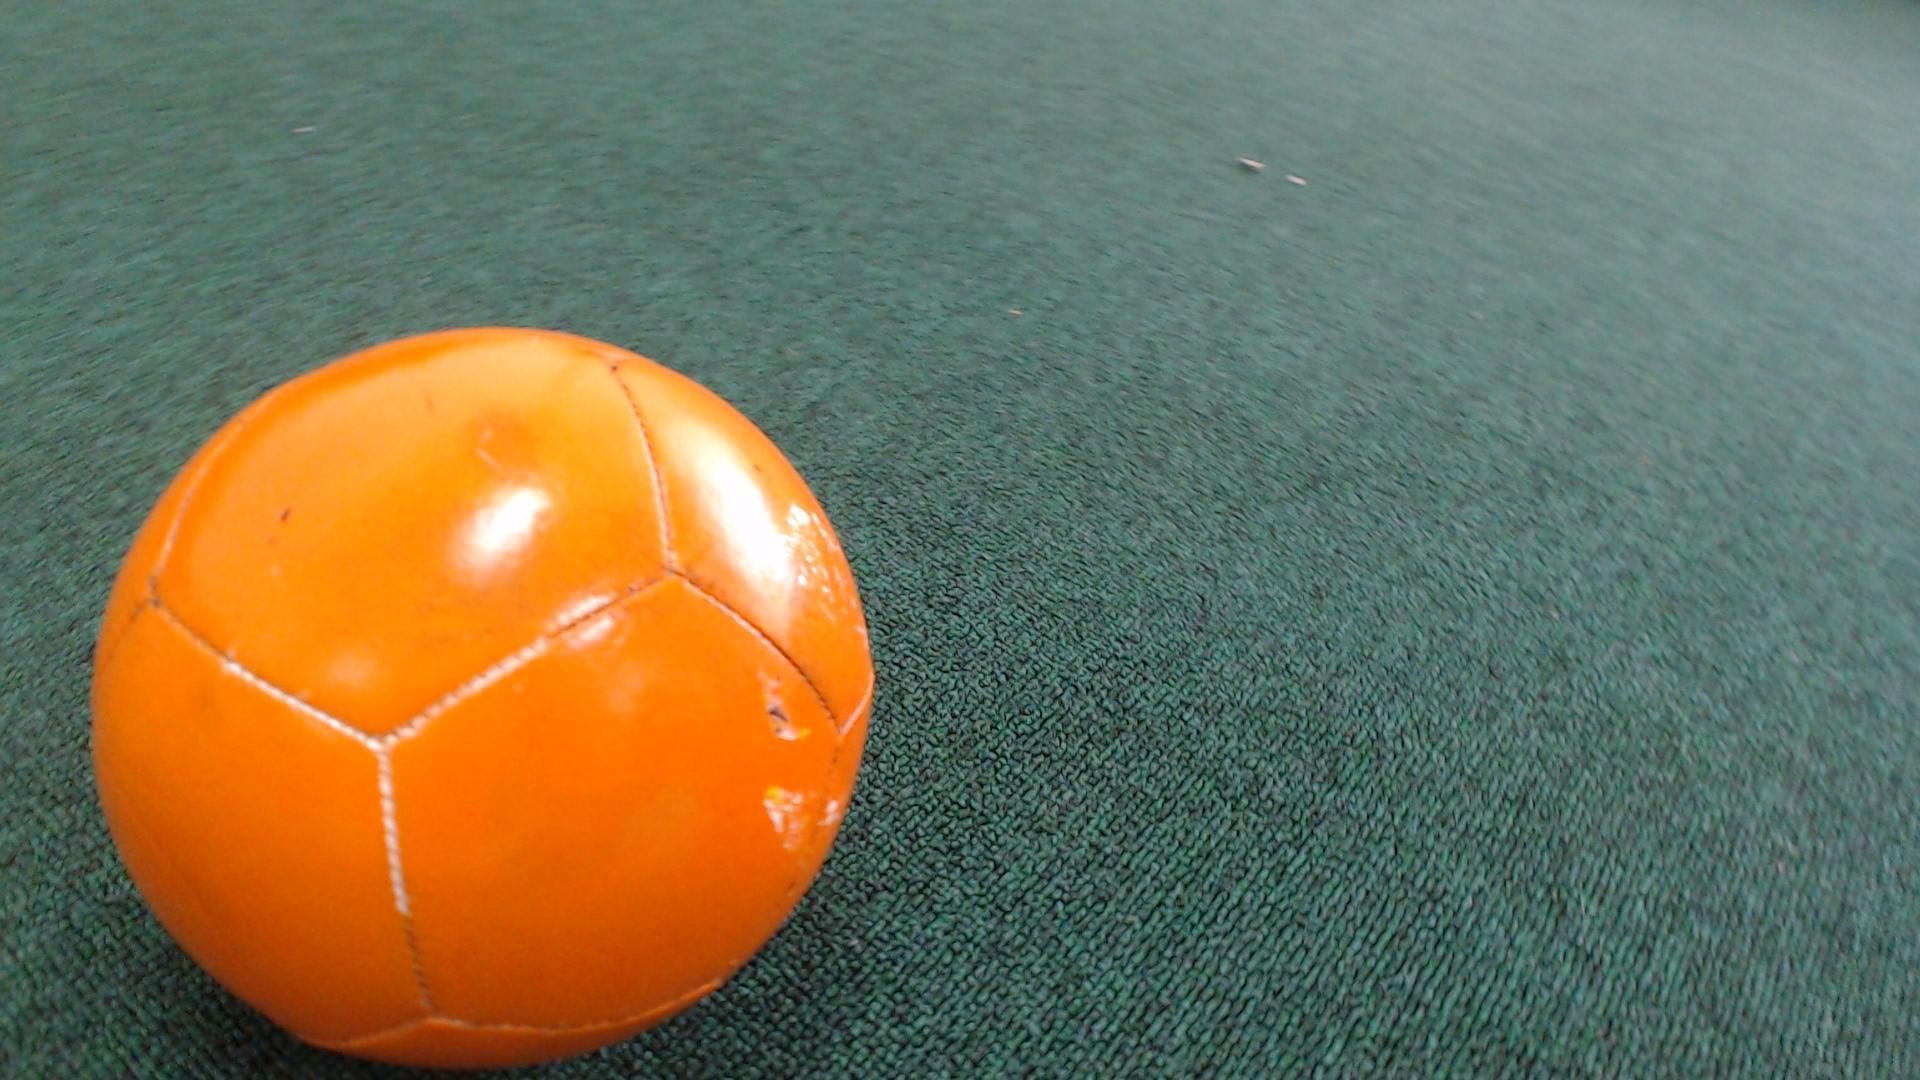bola: (47, 289, 907, 1080)
